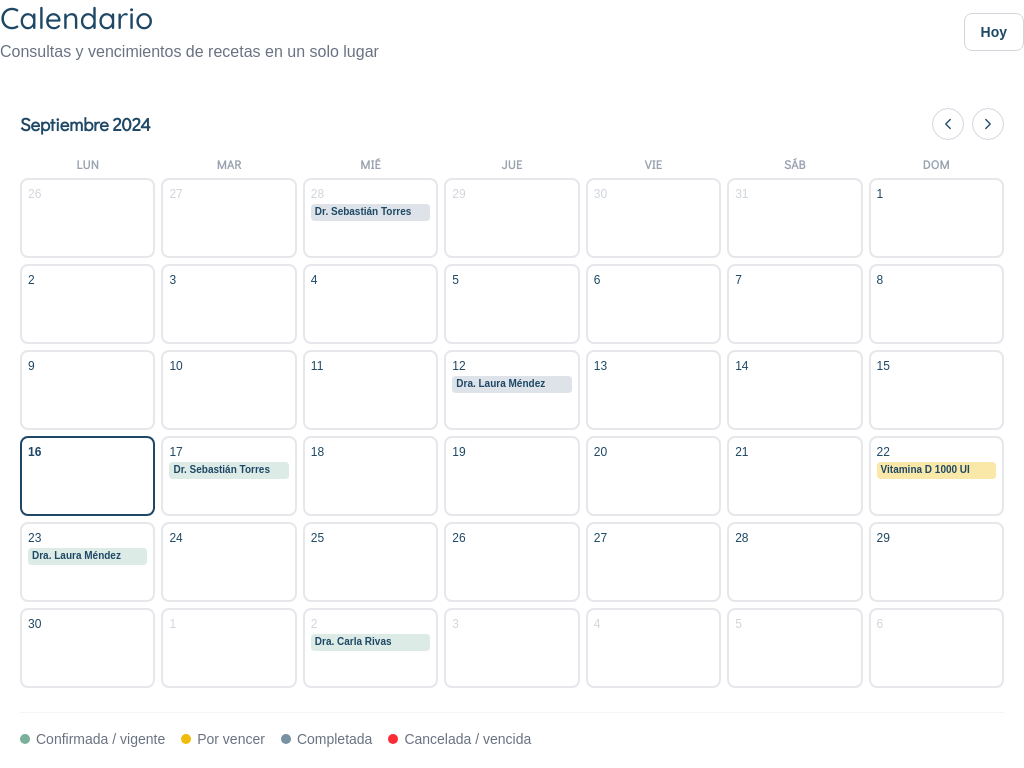
Test: CalendarioPage › the 'Cerrar' button closes the day modal
This screenshot has width=1024, height=768.
Click the button "16" at point(88, 476), box [20,436,155,516]
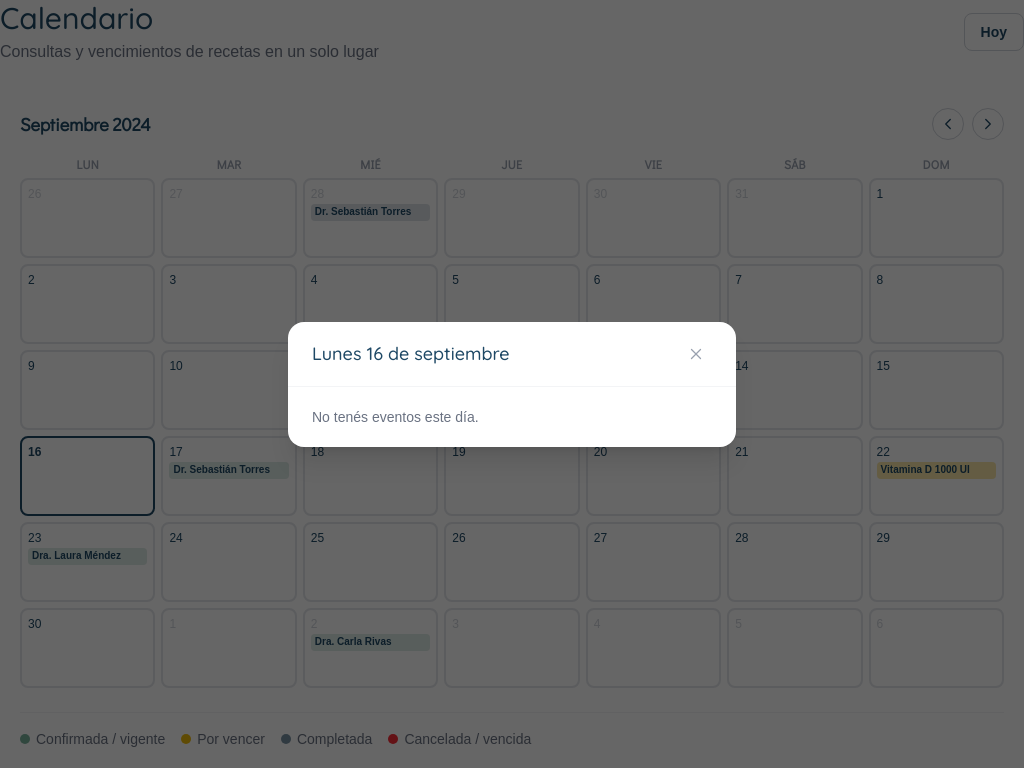
Expected: the text "No tenés eventos este día." is shown, [312,408,479,424]
Click the button named "Cerrar" at point(696, 354), box [680,338,712,370]
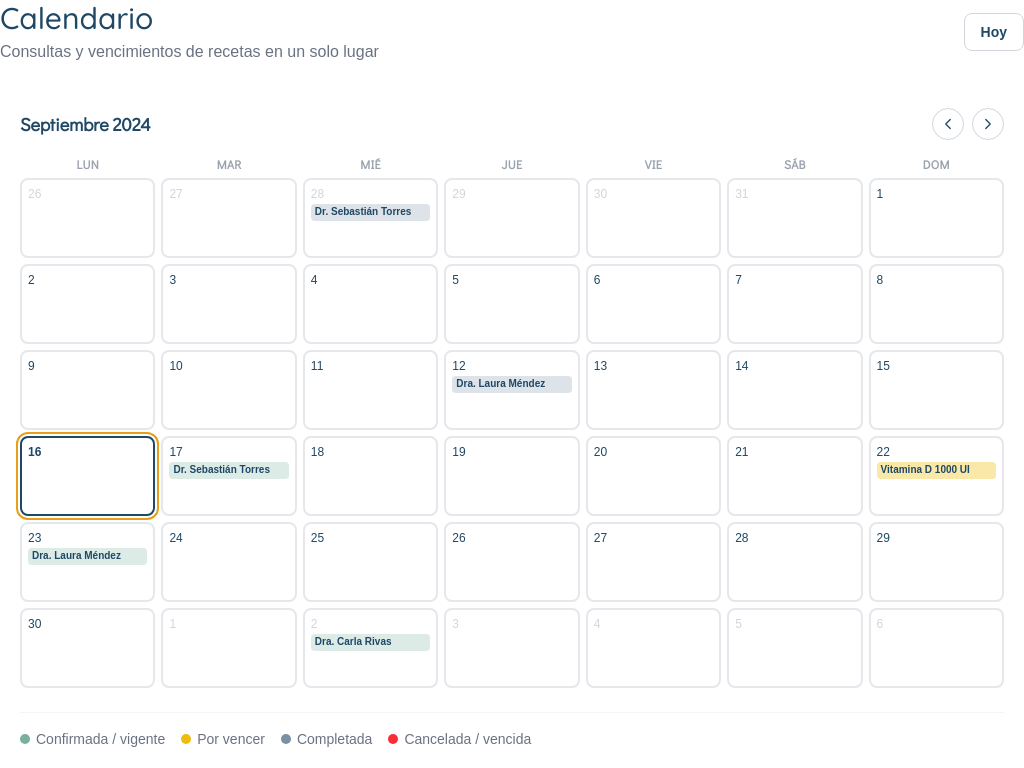
Expected: the text "No tenés eventos este día." is gone
